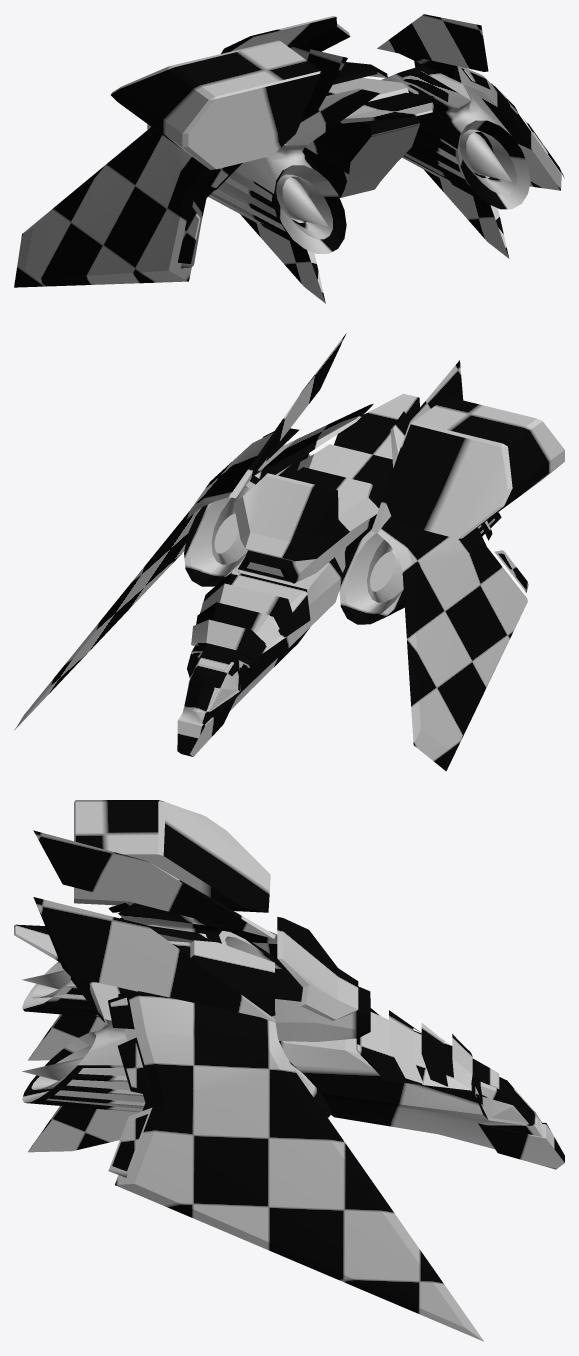
The model's file is streuner_rocketeer.obj.
The picture shows the model from 3 angles, top to bottom: view 1: azimuth 30°, elevation 25°; view 2: azimuth 150°, elevation 25°; view 3: azimuth 270°, elevation 25°; orthographic projection. The views are drawn at different scales.
Parts seen in each view (by area): view 1: Streuner_Rocketeer; view 2: Streuner_Rocketeer; view 3: Streuner_Rocketeer.
Boxes of the visible parts, <box> form: Streuner_Rocketeer: <box>14,14,564,303</box>; Streuner_Rocketeer: <box>14,333,564,771</box>; Streuner_Rocketeer: <box>14,800,564,1341</box>.
Bounding box in the file's own units: 126 × 91.2 × 127.
1 material, 1 textured.
